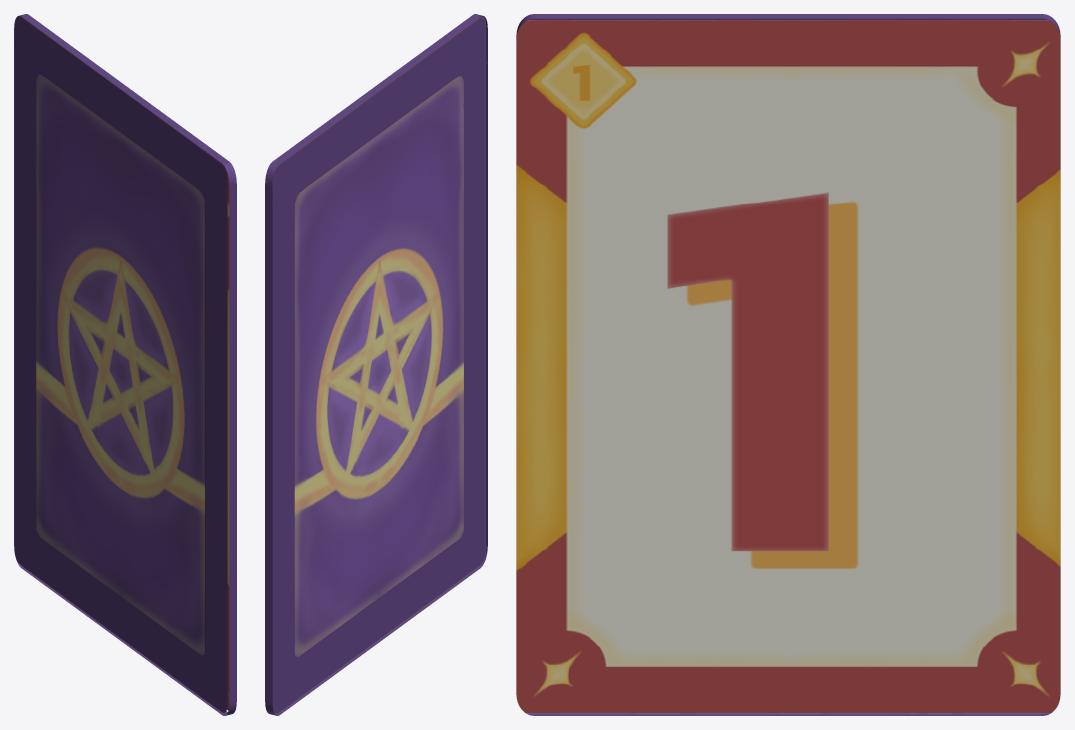
File: m_card_1.fbx
3 renders of one model, left to right at view 1: azimuth 30°, elevation 25°; view 2: azimuth 150°, elevation 25°; view 3: azimuth 270°, elevation 25°, orthographic. The views are drawn at different scales.
Parts seen in each view (by area): view 1: Card; view 2: Card; view 3: Card.
Part boxes in pixels (<box>): Card: <box>14,14,236,715</box>; Card: <box>265,14,487,715</box>; Card: <box>516,14,1060,715</box>.
Size of the model in its own units: 4.2 by 295 by 209.
